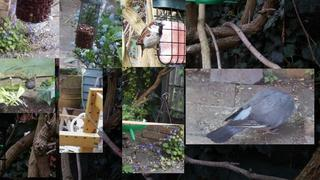sparrow: (135, 20, 166, 58), (22, 78, 35, 91)
wood pigeon: (206, 89, 294, 144)
